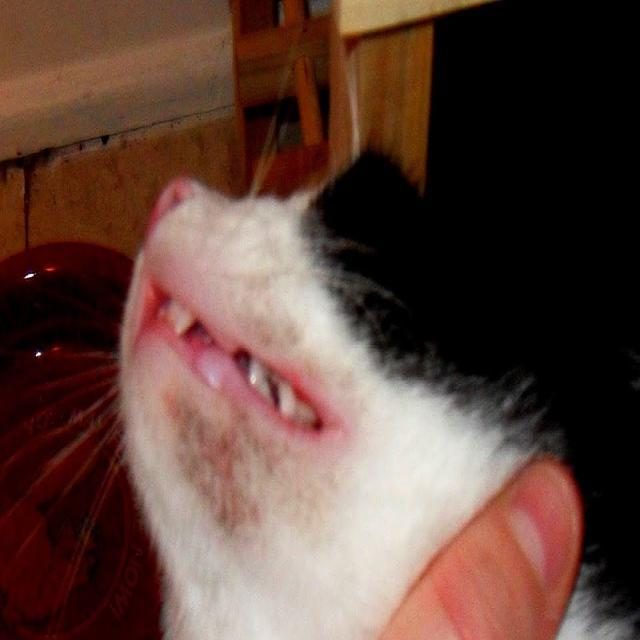acne: (160, 385, 285, 537)
